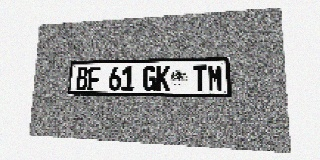1: (121, 66, 134, 91)
6: (108, 66, 121, 91)
B: (76, 67, 88, 90)
F: (87, 67, 100, 90)
G: (143, 66, 156, 91)
K: (156, 66, 170, 91)
M: (208, 65, 223, 92)
T: (193, 65, 208, 91)
